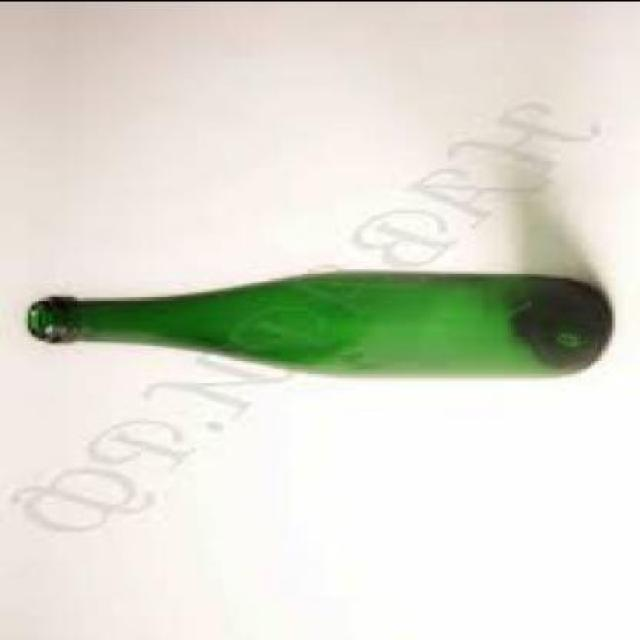GLASS: (26, 268, 614, 372)
